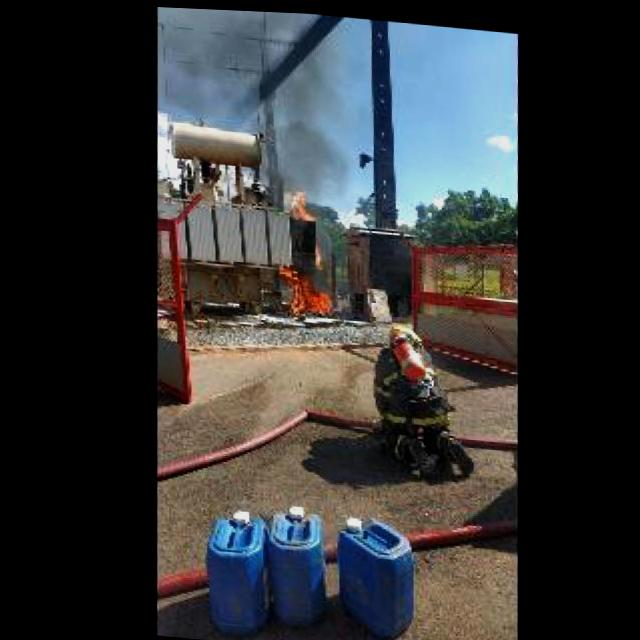Fire: (271, 264, 333, 309), (283, 184, 314, 220), (309, 241, 321, 264)
Smoke: (146, 5, 356, 192)
